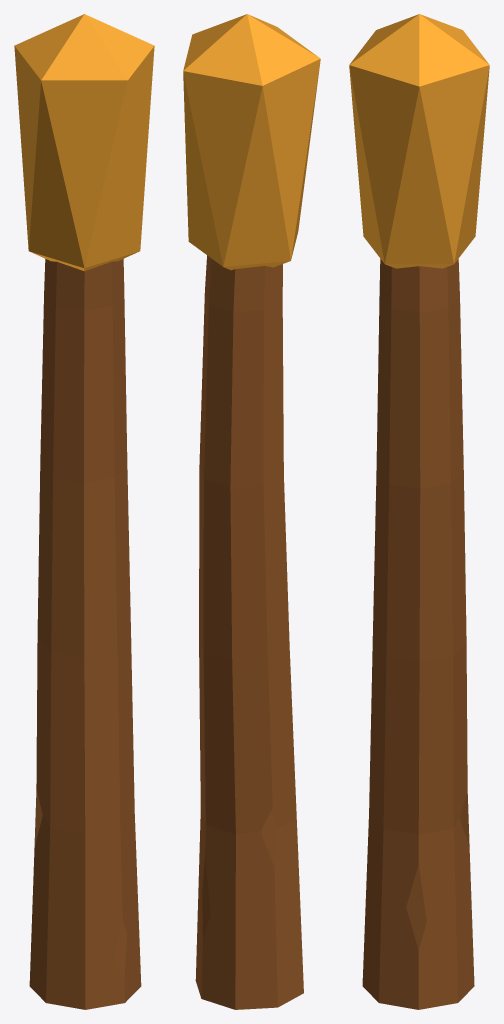
File: torch.fbx
3 views of the same model, side by side, from view 1: azimuth 90°, elevation 25°; view 2: azimuth 210°, elevation 25°; view 3: azimuth 270°, elevation 25° (orthographic).
Parts seen in each view (by area): view 1: torch; view 2: torch; view 3: torch.
Boxes of the visible parts, x1,y1,x2,y2 form: torch: (14, 14, 154, 1009); torch: (183, 14, 320, 1009); torch: (349, 14, 489, 1009).
Size of the model in its own units: 0.2177 by 1.75 by 0.2289.
